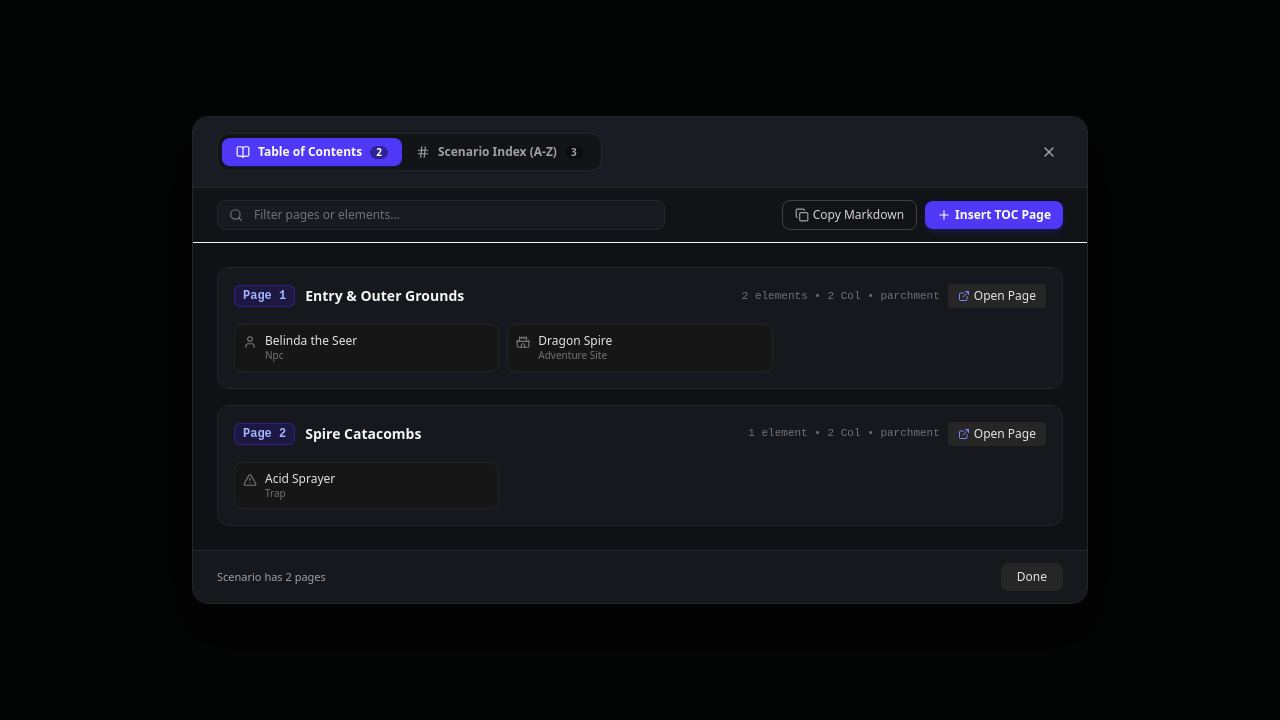
Test: TocAndIndexModal › filters Table of Contents entries when typing in search query
Type "Catacombs" into the field with placeholder "Filter pages or elements..." at coordinates (441, 215), box [217,200,665,230]
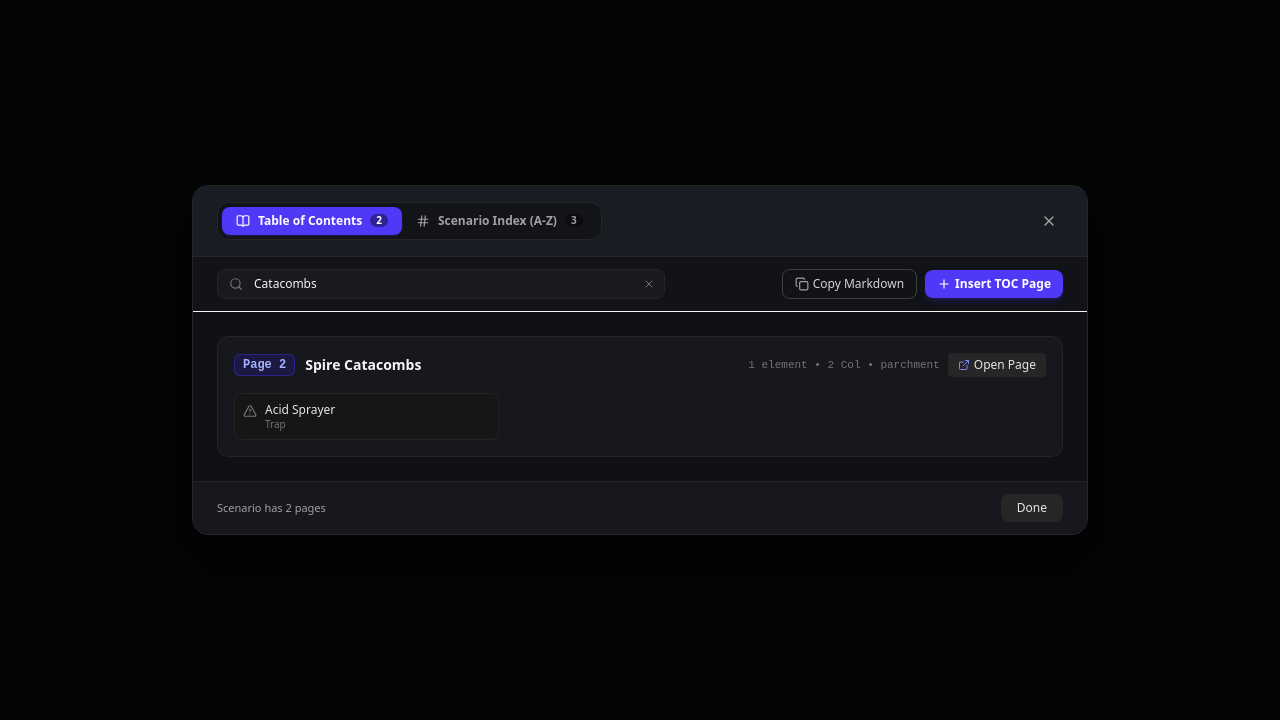
Expected: the heading "Spire Catacombs" is shown, [305,355,421,375]
Now the text "Belinda the Seer" is gone
